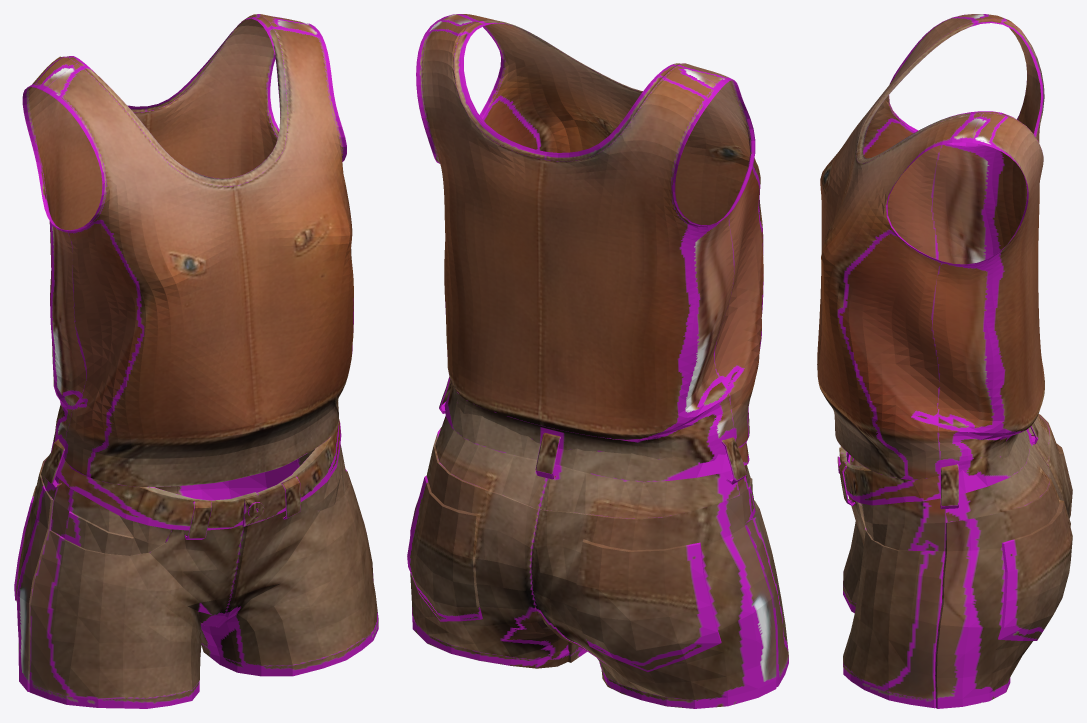
3 renders of one model, left to right at view 1: azimuth 30°, elevation 25°; view 2: azimuth 150°, elevation 25°; view 3: azimuth 270°, elevation 25°, orthographic. The views are drawn at different scales.
Bounding box in the file's own units: 0.5556 × 0.9516 × 0.3803.
Materials: 1 (1 with a texture image).
